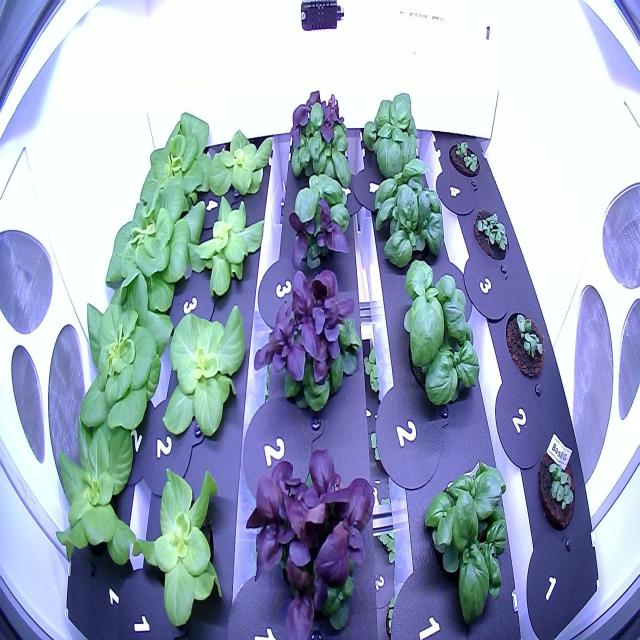germination: (531, 436, 581, 541), (500, 300, 550, 387), (468, 198, 513, 267), (445, 135, 483, 186)
young: (71, 264, 180, 446), (128, 442, 230, 634), (95, 166, 211, 325), (53, 398, 147, 574), (157, 291, 249, 466), (181, 189, 269, 315), (133, 106, 224, 224), (202, 114, 280, 211)
